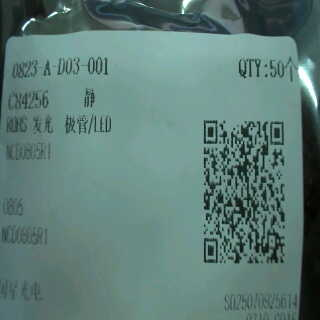LED: (29, 112, 114, 134)
